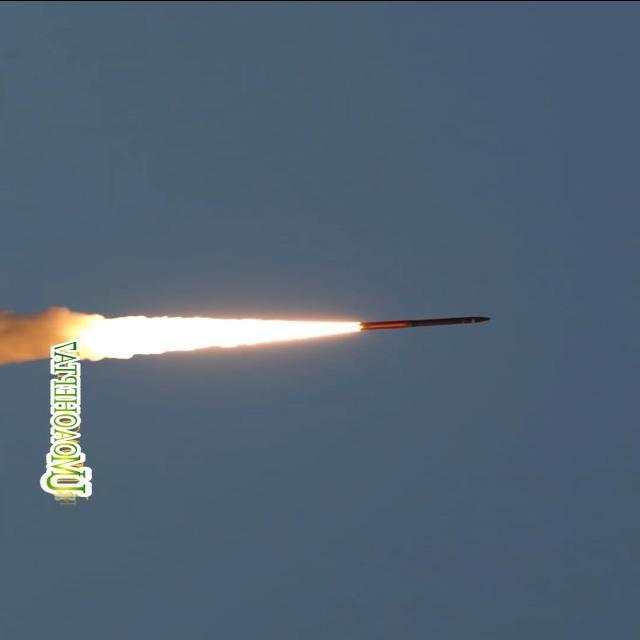Missile: (352, 313, 499, 335)
